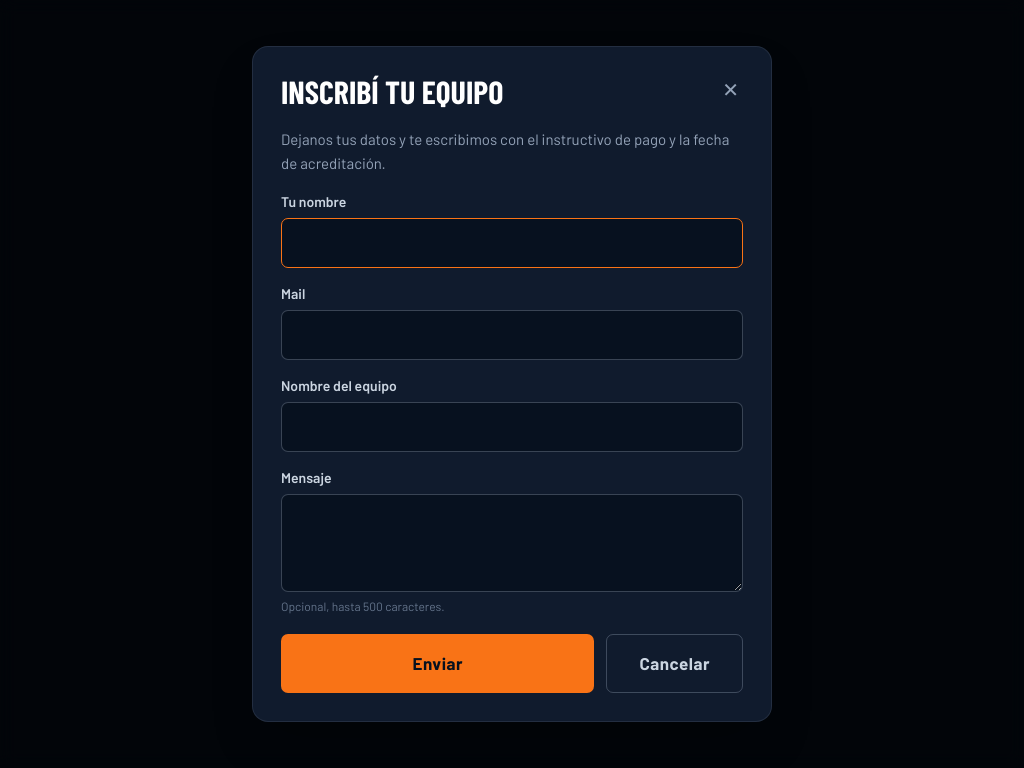
RegistrationModal › limpia el error del campo apenas se corrige
The width and height of the screenshot is (1024, 768).
Click the button "Enviar".
click(438, 663)  # box [281, 634, 594, 693]
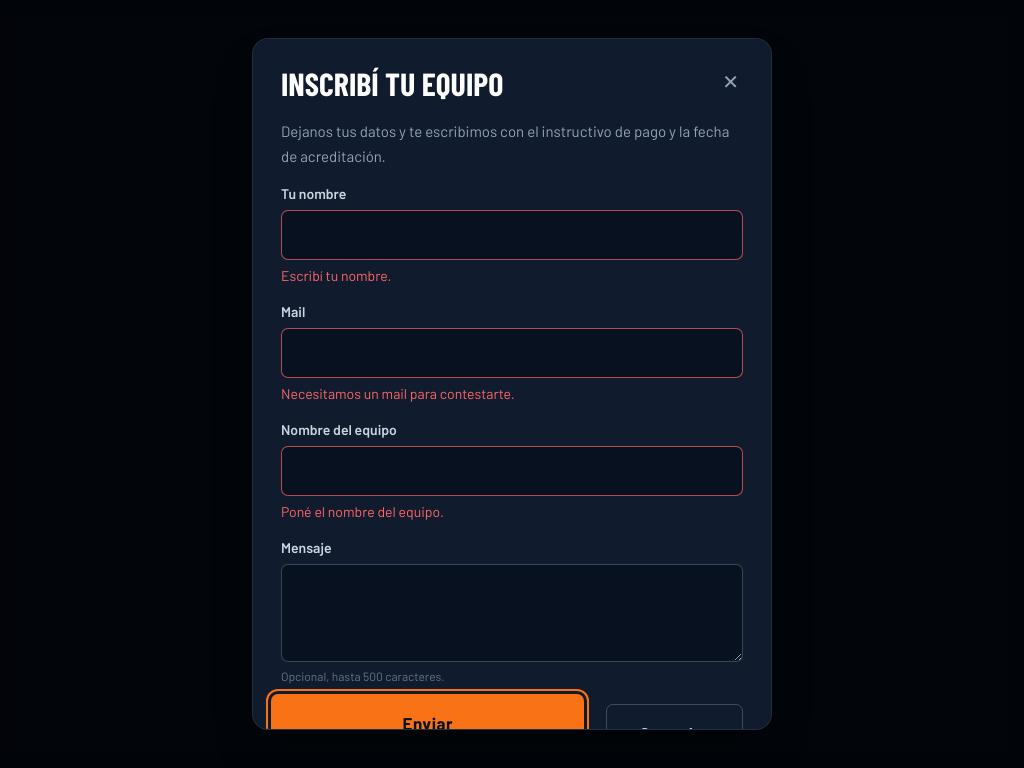
Check: the text "Escribí tu nombre." is shown, box [281, 267, 391, 284]
Type "Emiliano" into the field labelled "Tu nombre".
click(512, 235); type("Emiliano")  # box [281, 210, 743, 260]
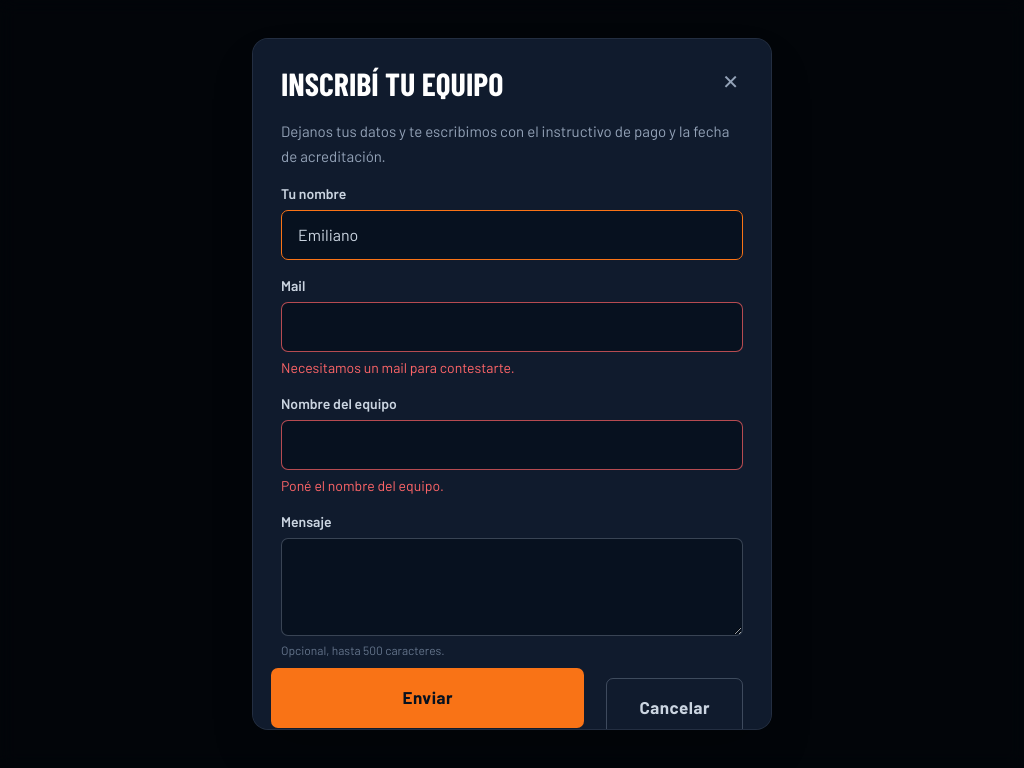
Check: the text "Escribí tu nombre." is gone
